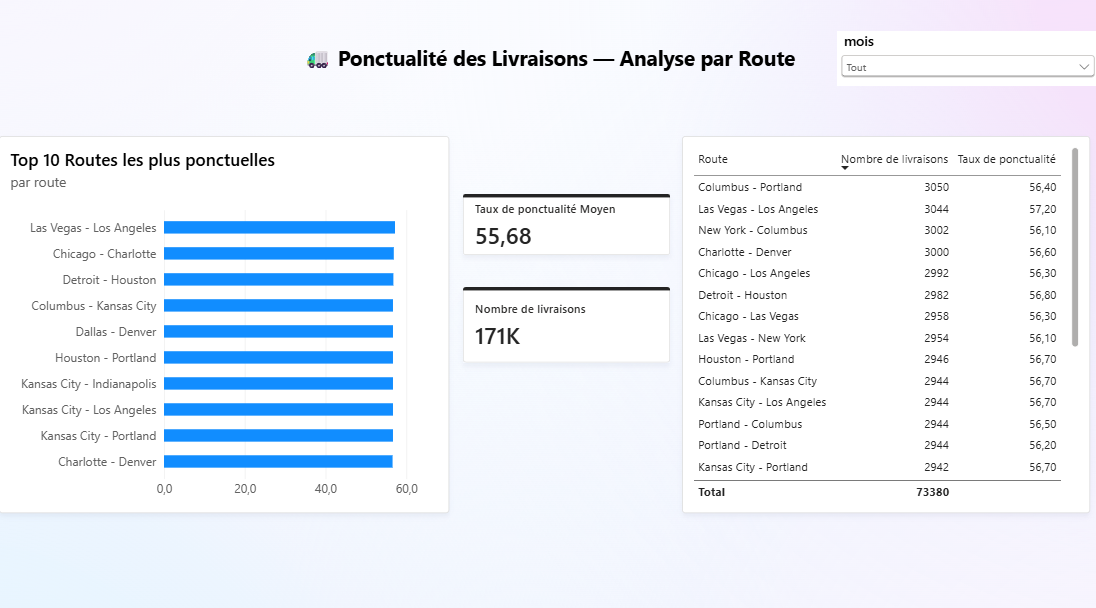

Layout of this report page (visuals, bound fields, positions):
{"tool":"powerbi","page":{"name":"Ponctualité & Routes","canvas":[1280,720],"ordinal":1},"visuals":[{"type":"clusteredBarChart","fields":{"Category":["ponctualite.route"],"Y":["Sum(ponctualite.taux_ponctualite)"]},"box":[0,140,523.8,438.8],"z":0},{"type":"cardVisual","fields":{"Data":["Sum(ponctualite.nb_livraisons)"]},"box":[540,315,241.2,88.8],"z":1000},{"type":"tableEx","fields":{"Values":["ponctualite.route","Sum(ponctualite.nb_livraisons)","ponctualite.taux_ponctualite"]},"box":[795,140,475,438.8],"z":2000},{"type":"textbox","box":[328.8,32.5,622.5,48.8],"z":2001},{"type":"slicer","fields":{"Values":["revenus_mois.mois"]},"box":[975,17.5,305,63.8],"z":2002},{"type":"cardVisual","fields":{"Data":["ponctualite.Taux Ponctualite Moyen"]},"box":[540,207.5,241.2,71.2],"z":2003}]}

Visuals, with their boxes in screenshot pixels (x1, y1, x2, y2), scaled from the page's 1280x720 canvas onto the 1096x608 screenshot:
clusteredBarChart - ponctualite.route x Sum(ponctualite.taux_ponctualite): Rect(0, 118, 449, 489)
cardVisual - Sum(ponctualite.nb_livraisons): Rect(462, 266, 669, 341)
tableEx - ponctualite.route x Sum(ponctualite.nb_livraisons): Rect(681, 118, 1087, 489)
textbox: Rect(282, 27, 815, 69)
slicer - revenus_mois.mois: Rect(835, 15, 1095, 69)
cardVisual - ponctualite.Taux Ponctualite Moyen: Rect(462, 175, 669, 235)
